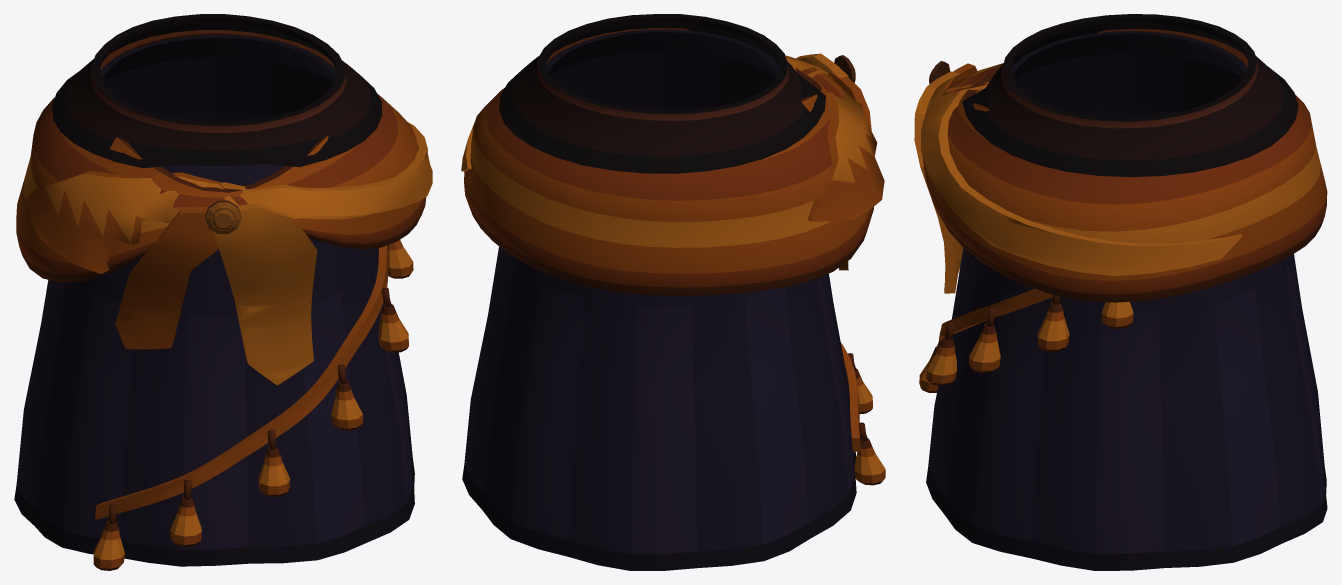
Rendered from TravelingMinstrelWrap.fbx.
3 views of the same model, side by side, from view 1: azimuth 30°, elevation 25°; view 2: azimuth 150°, elevation 25°; view 3: azimuth 270°, elevation 25° (orthographic).
Visible parts, largest first — view 1: MinstrelLayers; view 2: MinstrelLayers; view 3: MinstrelLayers.
Boxes of the visible parts, x1,y1,x2,y2 form: MinstrelLayers: [14, 14, 432, 570]; MinstrelLayers: [461, 14, 885, 570]; MinstrelLayers: [914, 14, 1327, 570].
Size of the model in its own units: 0.3728 by 0.4122 by 0.3549.
Materials: 2 (2 with a texture image).
